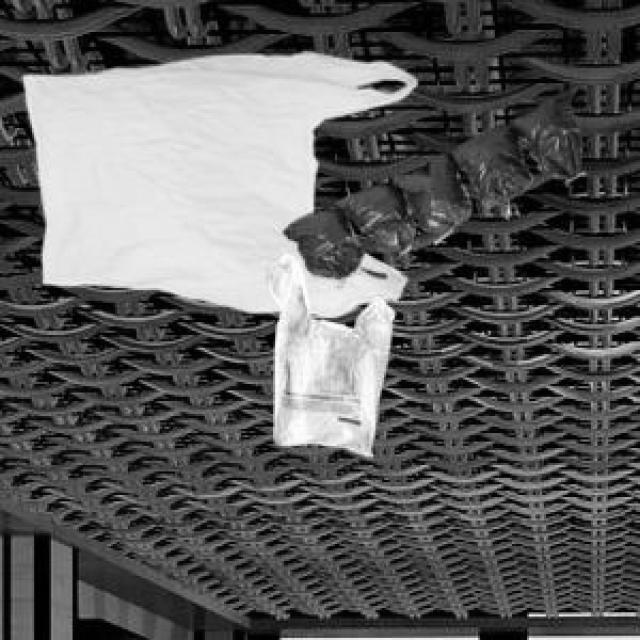miscellaneous trash: (280, 84, 578, 275)
